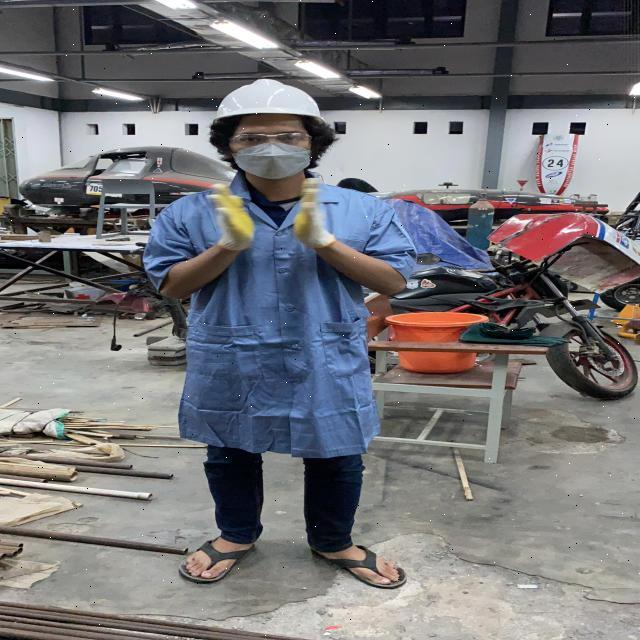Hard_hat: (210, 75, 336, 135)
Person: (145, 79, 418, 591)
